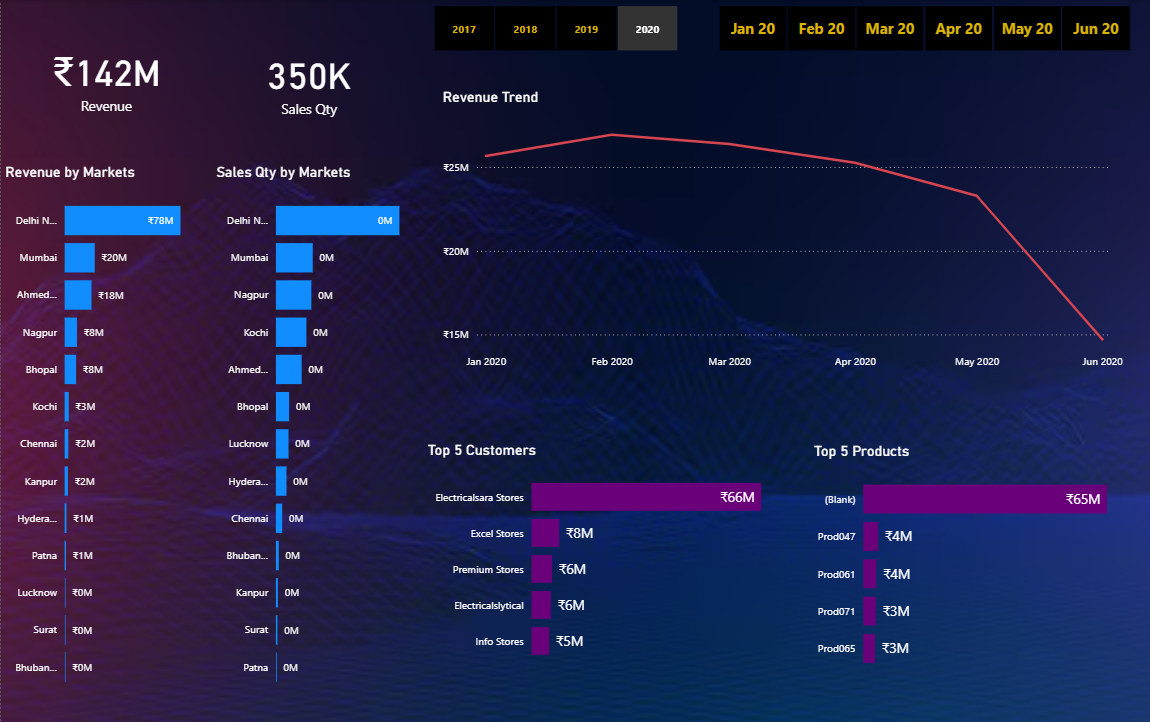

Layout of this report page (visuals, bound fields, positions):
{"tool":"powerbi","page":{"name":"Key Insights","canvas":[1350,850],"ordinal":0},"visuals":[{"type":"card","fields":{"Values":["BaseMeasures (2).Revenue"]},"box":[0,0,247.9,184.6],"z":0},{"type":"card","fields":{"Values":["BaseMeasures (2).Sales Qty"]},"box":[247.9,0,227.9,193.1],"z":1000},{"type":"barChart","title":"Revenue by Markets","fields":{"Y":["BaseMeasures (2).Revenue"],"Category":["sales markets.markets_name"]},"box":[0,193.1,247.9,631.9],"z":2000},{"type":"barChart","title":"Sales Qty by Markets","fields":{"Y":["BaseMeasures (2).Sales Qty"],"Category":["sales markets.markets_name"]},"box":[247.9,193.1,247.9,631.9],"z":3000},{"type":"slicer","fields":{"Values":["sales date.year"]},"box":[483.2,0,335.5,66.5],"z":4000},{"type":"slicer","fields":{"Values":["sales date.cy_date"]},"box":[818.6,0,531.7,66.5],"z":5000},{"type":"barChart","title":"Top 5 Customers","fields":{"Y":["BaseMeasures (2).Revenue"],"Category":["sales customers.custmer_name"]},"box":[495.8,519,446.2,274.3],"z":6000},{"type":"barChart","title":"Top 5 Products","fields":{"Y":["BaseMeasures (2).Revenue"],"Category":["sales products.product_code"]},"box":[950.7,519.2,399.5,282.8],"z":7000},{"type":"lineChart","title":"Revenue Trend","fields":{"Y":["BaseMeasures (2).Revenue"],"Category":["sales date.cy_date"]},"box":[513.8,104.4,809.1,338.6],"z":8000}]}

Visuals, with their boxes in screenshot pixels (x1, y1, x2, y2), scaled from the page's 1350x850 canvas onto the 1150x722 screenshot:
card - BaseMeasures (2).Revenue: <bbox>0, 0, 211, 157</bbox>
card - BaseMeasures (2).Sales Qty: <bbox>211, 0, 405, 164</bbox>
"Revenue by Markets" barChart: <bbox>0, 164, 211, 701</bbox>
"Sales Qty by Markets" barChart: <bbox>211, 164, 422, 701</bbox>
slicer - sales date.year: <bbox>412, 0, 697, 56</bbox>
slicer - sales date.cy_date: <bbox>697, 0, 1149, 56</bbox>
"Top 5 Customers" barChart: <bbox>422, 441, 802, 674</bbox>
"Top 5 Products" barChart: <bbox>810, 441, 1149, 681</bbox>
"Revenue Trend" lineChart: <bbox>438, 89, 1127, 376</bbox>
